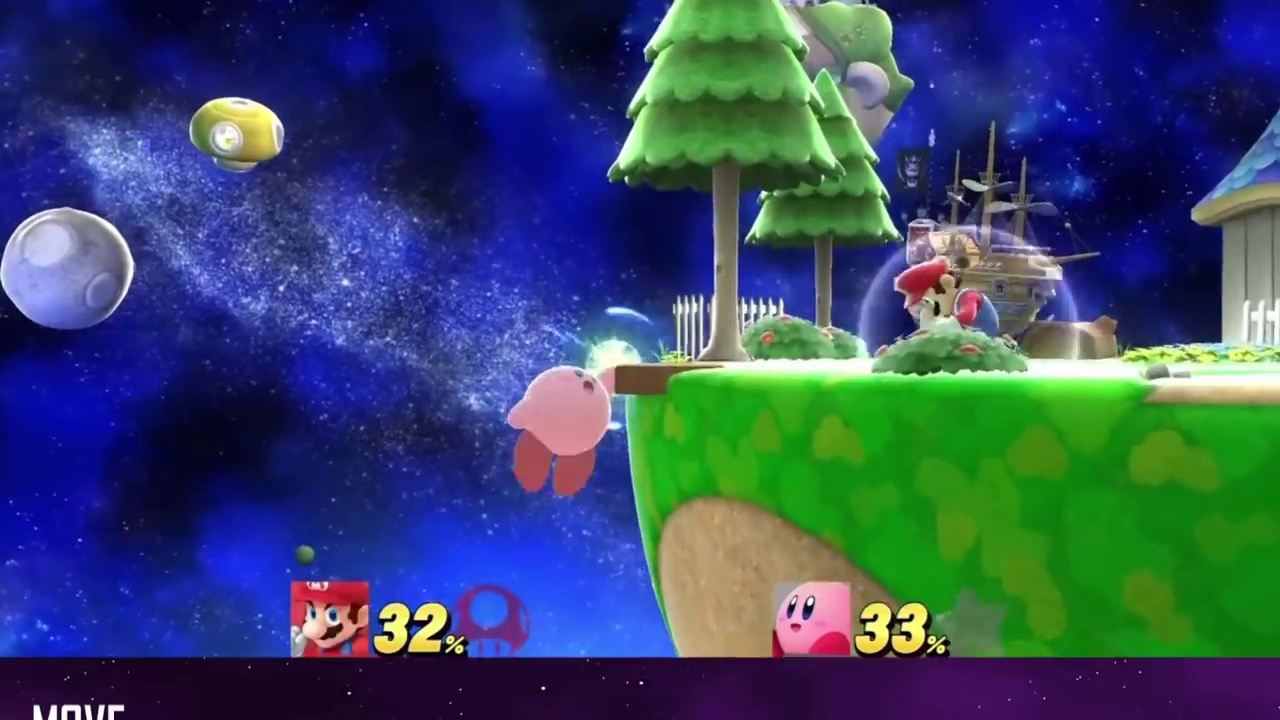Mario: (895, 257, 998, 335)
